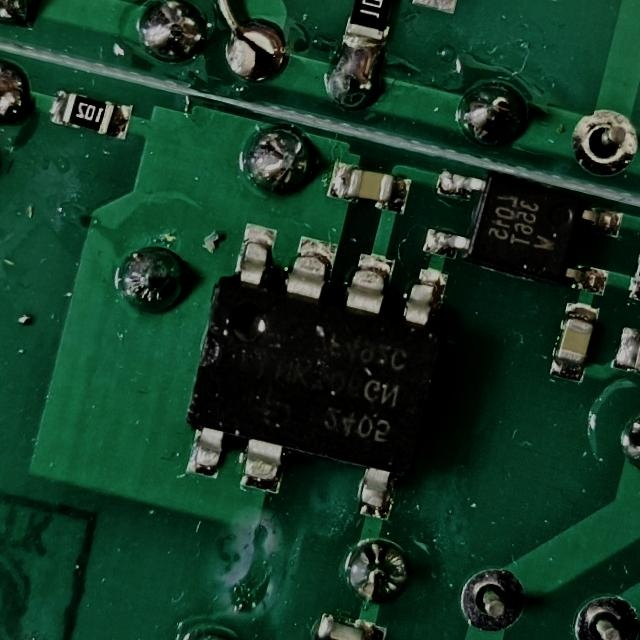chip-capacitor: (321, 155, 415, 218), (543, 294, 605, 387)
chip-resistor: (43, 84, 137, 143)
ic: (164, 213, 468, 533), (414, 159, 631, 302)
